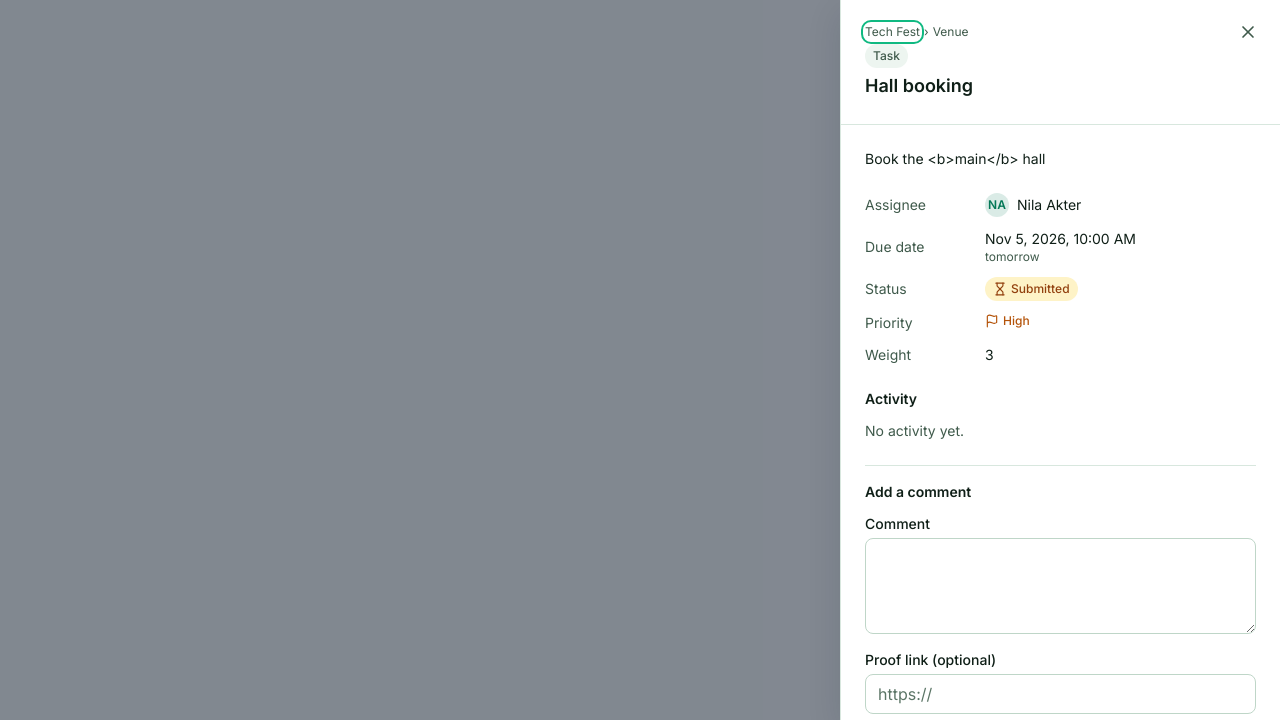
Comment composer › shows the mapped message when the server refuses, and keeps what was typed
Type "Hi" into the text box labelled "Comment".
click(1060, 586); type("Hi")  # box x1=865 y1=538 x2=1256 y2=634
(page scrolled)
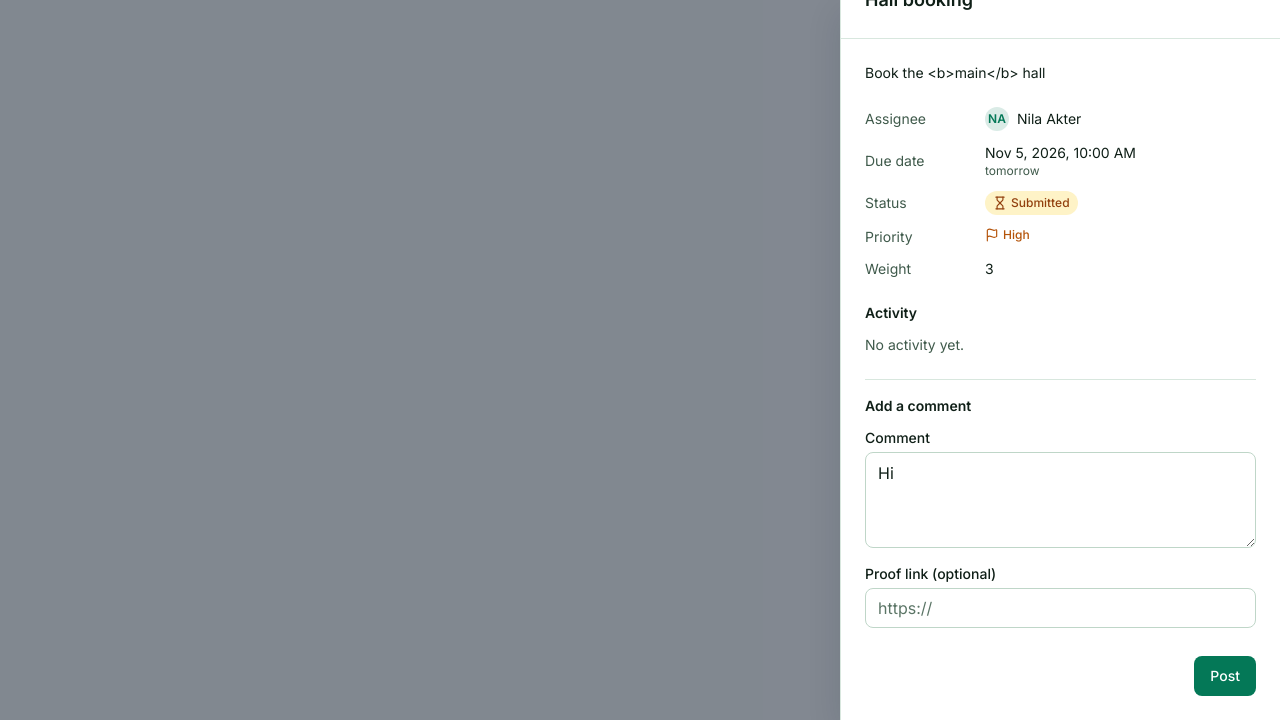
Click the button "Post".
click(1225, 676)  # box x1=1194 y1=656 x2=1256 y2=696
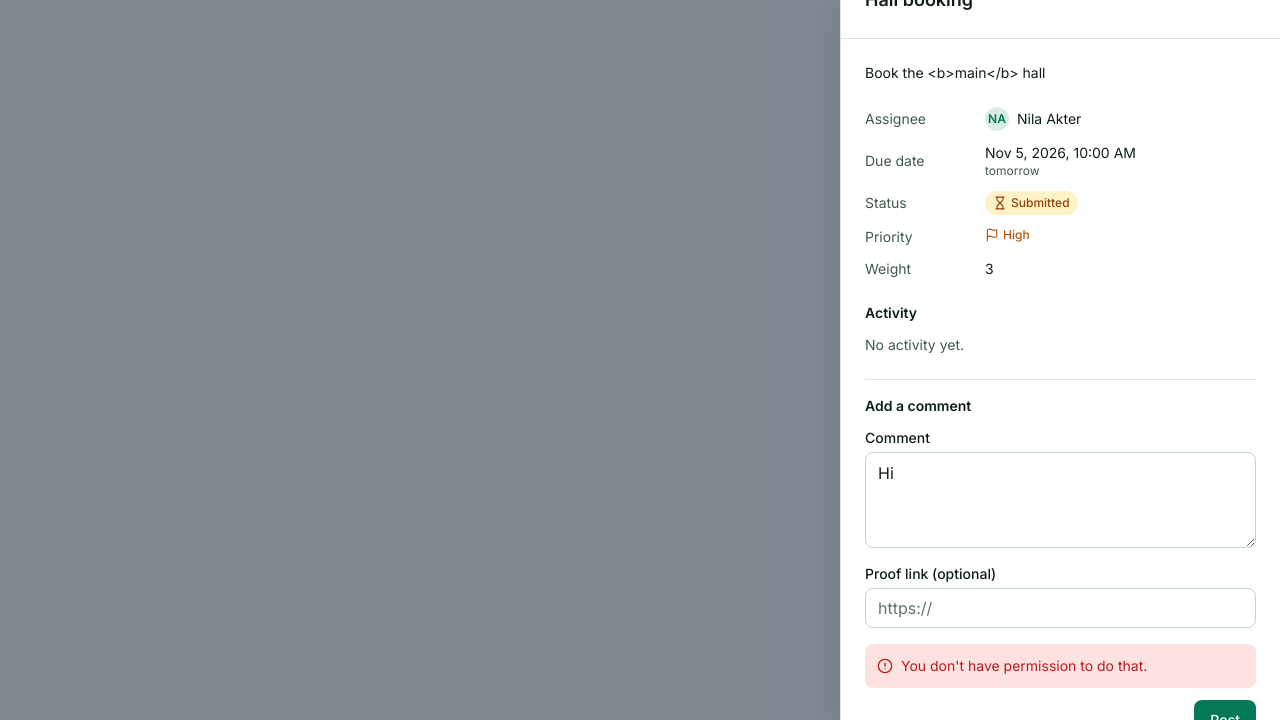
Expected: the message reads "You don't have permission to do that.", x1=901 y1=657 x2=1147 y2=674
